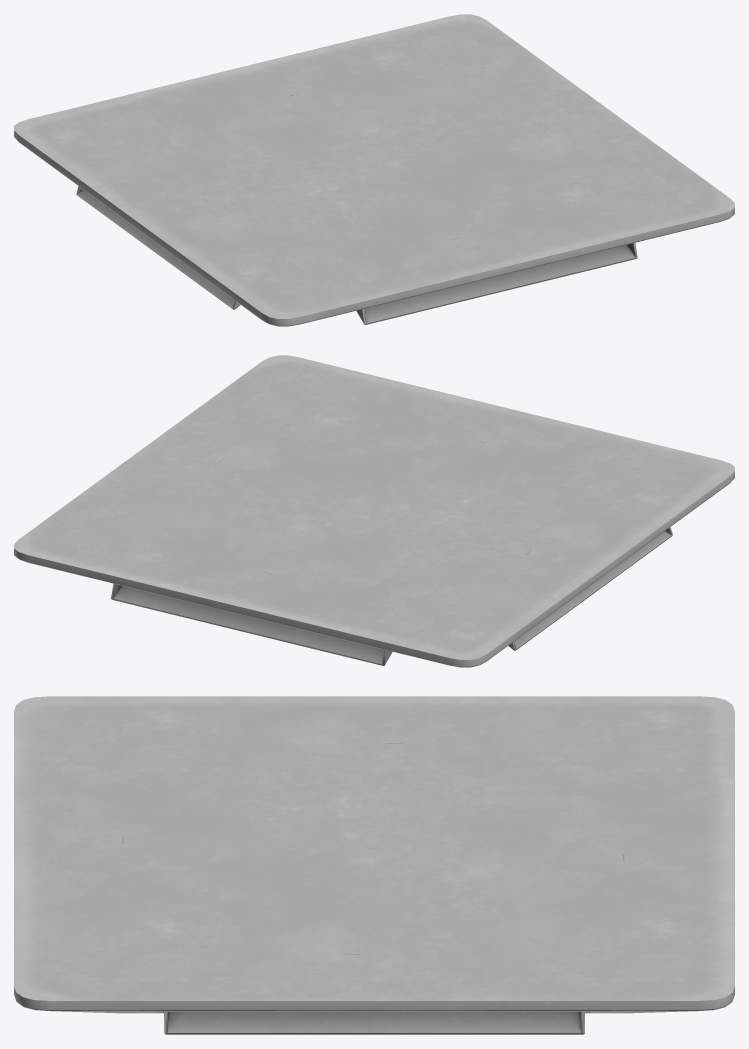
The model's file is SM_AirConditioner_Ceiling.fbx.
The picture shows the model from 3 angles, top to bottom: view 1: azimuth 30°, elevation 25°; view 2: azimuth 150°, elevation 25°; view 3: azimuth 270°, elevation 25°; orthographic projection. The views are drawn at different scales.
Parts seen in each view (by area): view 1: SM_AirConditioner_Ceiling_LOD0; view 2: SM_AirConditioner_Ceiling_LOD0; view 3: SM_AirConditioner_Ceiling_LOD0.
Boxes of the visible parts, left/top/right/bottom form: SM_AirConditioner_Ceiling_LOD0: left=14, top=14, right=734, bottom=326; SM_AirConditioner_Ceiling_LOD0: left=14, top=355, right=734, bottom=667; SM_AirConditioner_Ceiling_LOD0: left=14, top=696, right=734, bottom=1034.
Size of the model in its own units: 100 by 100 by 6.7.
